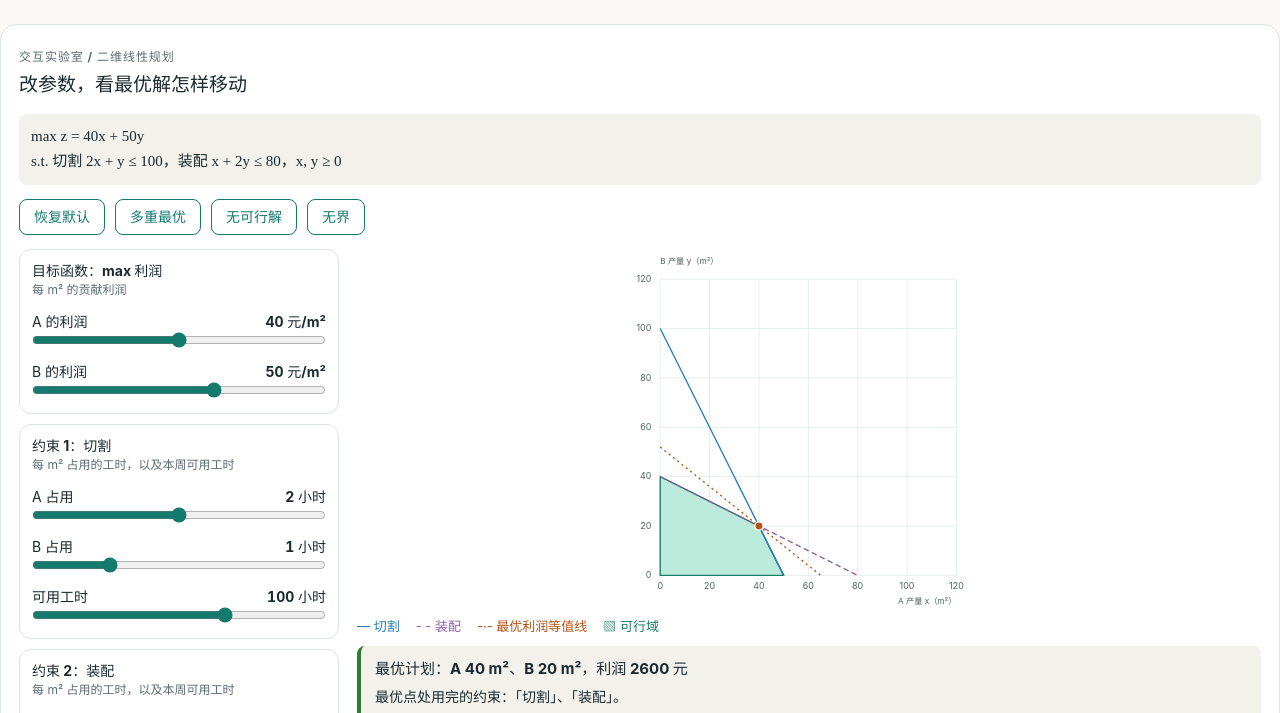
Test case: 线性规划交互实验室 › starts from the textbook model and recomputes on every change
Expected: the element that starts with "最优计划：A 40 m²、B 20 m²，利润 2600 元" is shown, [375,659,688,678]
Expected: the element named "当前模型" shows "max z = 40x + 50y", [19,114,1261,184]
Set the slider labelled "A 的利润 40 元/m²" to "80" at (318, 340), box [32,332,326,348]
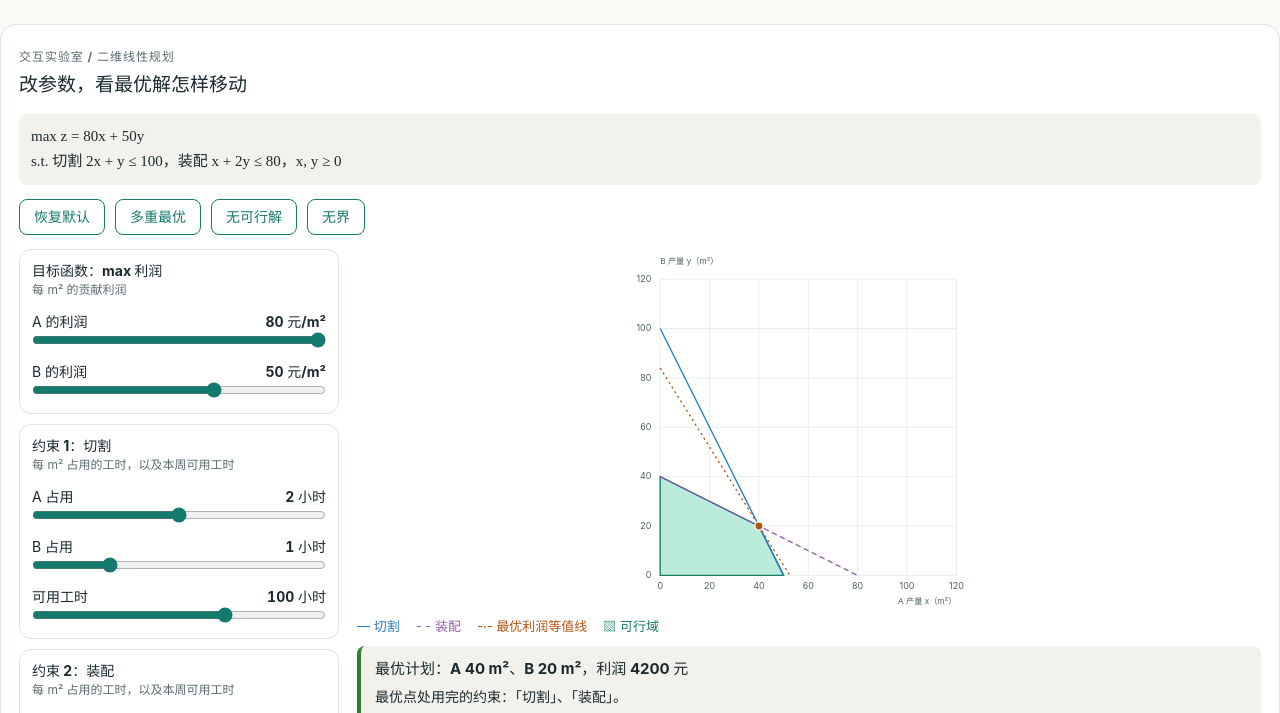
Expected: the element named "当前模型" shows "max z = 80x + 50y", [19,114,1261,184]
Expected: the element that starts with "最优计划：A 40 m²、B 20 m²，利润 4200 元" is shown, [375,659,688,678]
Set the slider labelled "B 的利润 50 元/m²" to "10" at (75, 390), box [32,382,326,398]
(page scrolled)
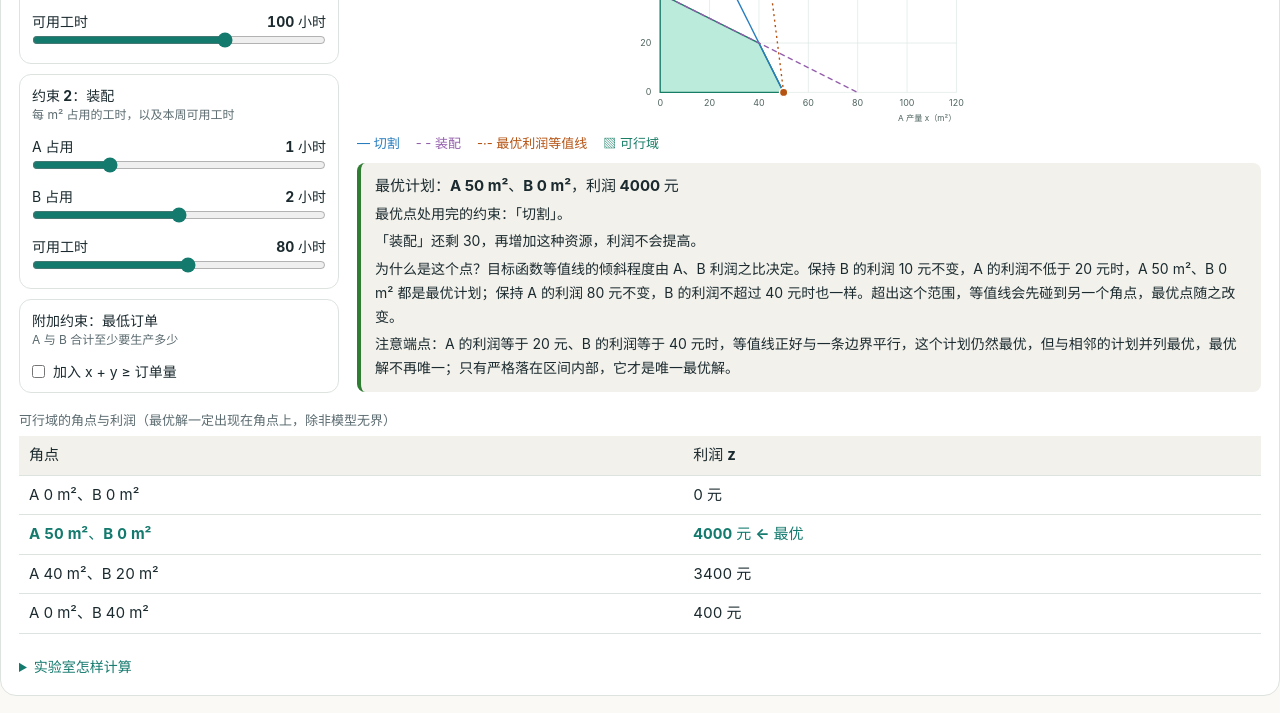
Expected: the element that starts with "最优计划：A 50 m²、B 0 m²，利润 4000 元" is shown, [375,176,679,195]
Expected: the text "4000 元 ← 最优" is shown, [683,514,1261,554]
